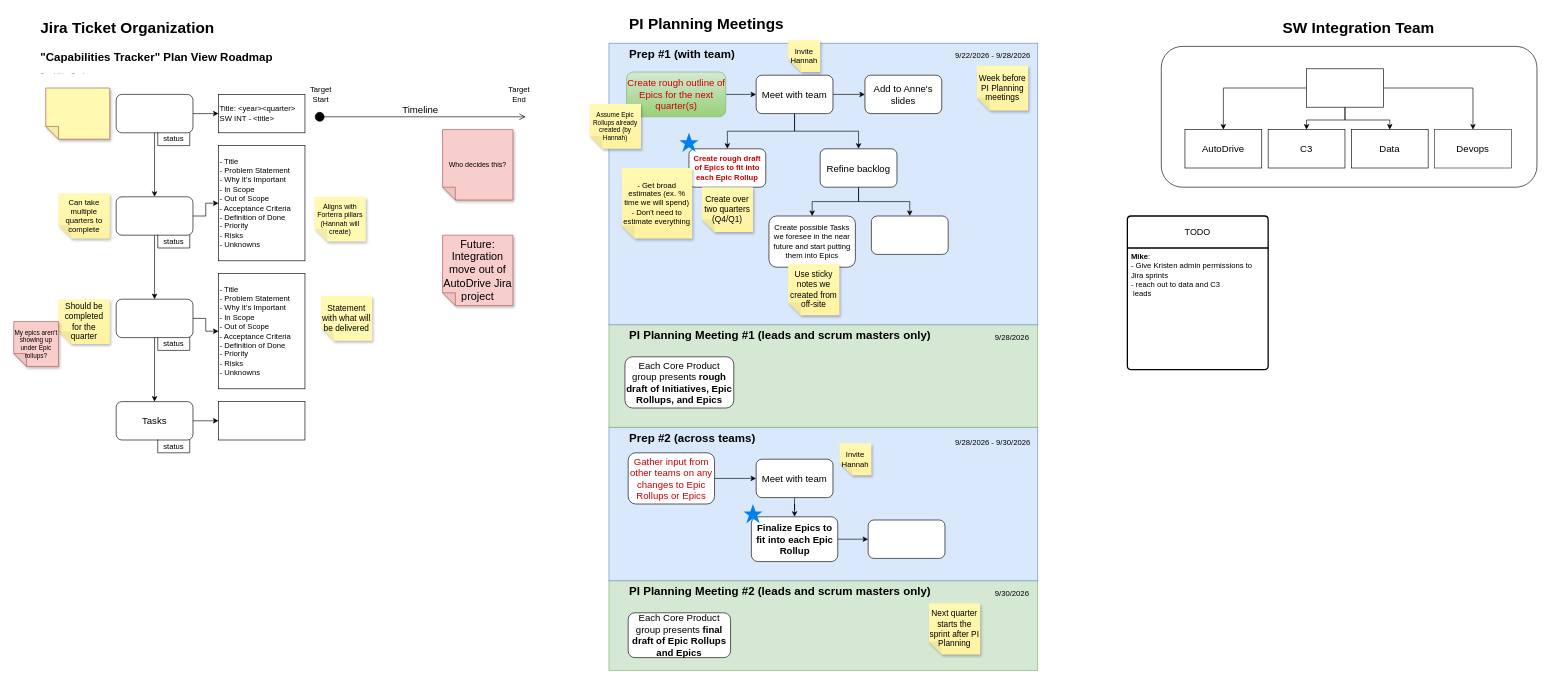
The diagram is 1548 pixels wide and 682 high, and some of its shapes have lost their labels. The shapes that lost their labels are listed below. From the top down, each one's centre as x and y in pixels, then its label:
(1344,87): Core Product
(78,114): Owned by core product, but multi-team effort (Hannah will create)
(154,113): Initiative
(154,215): Epic Rollups
(909,234): Decide which tasks we "Won't Do"
(154,318): Epics
(261,420): - Title - Priority - Acceptance Criteria
(906,538): Create Tasks to fit into each Epic
